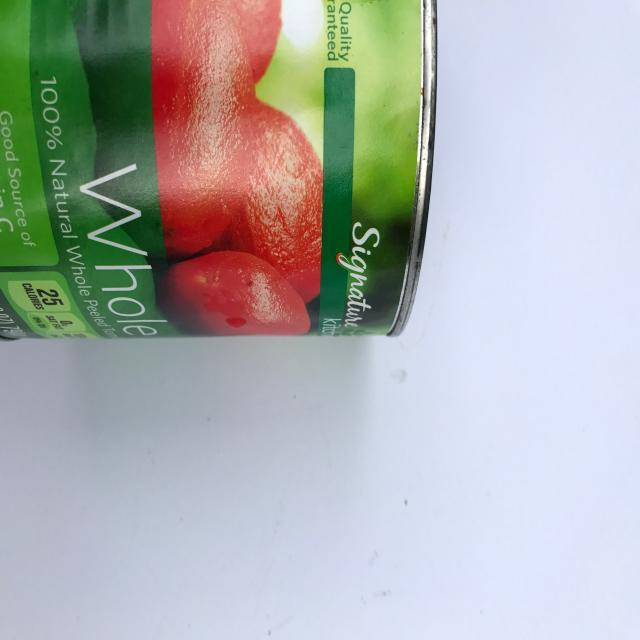metal: (2, 2, 440, 340)
